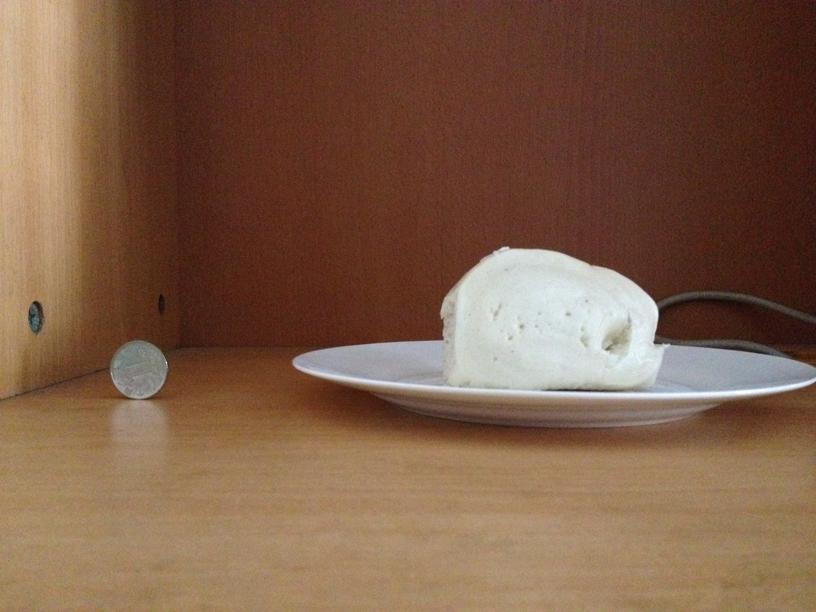bun: (432, 248, 658, 388)
coin: (108, 338, 169, 399)
